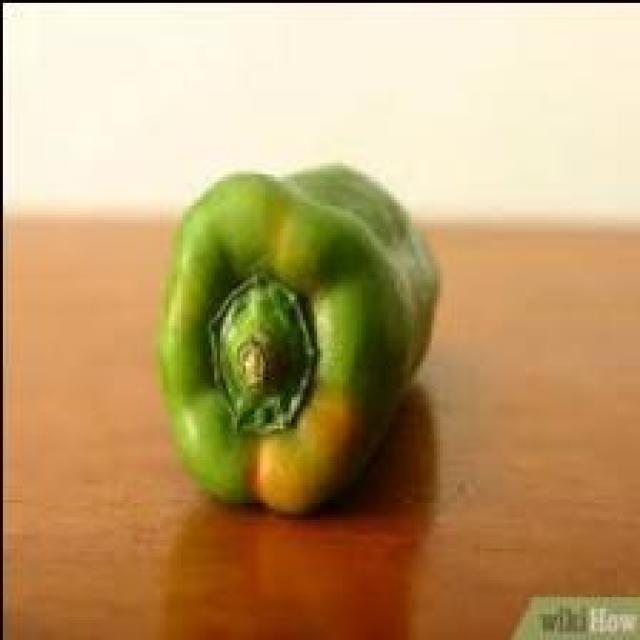Pepper: (154, 166, 440, 520)
